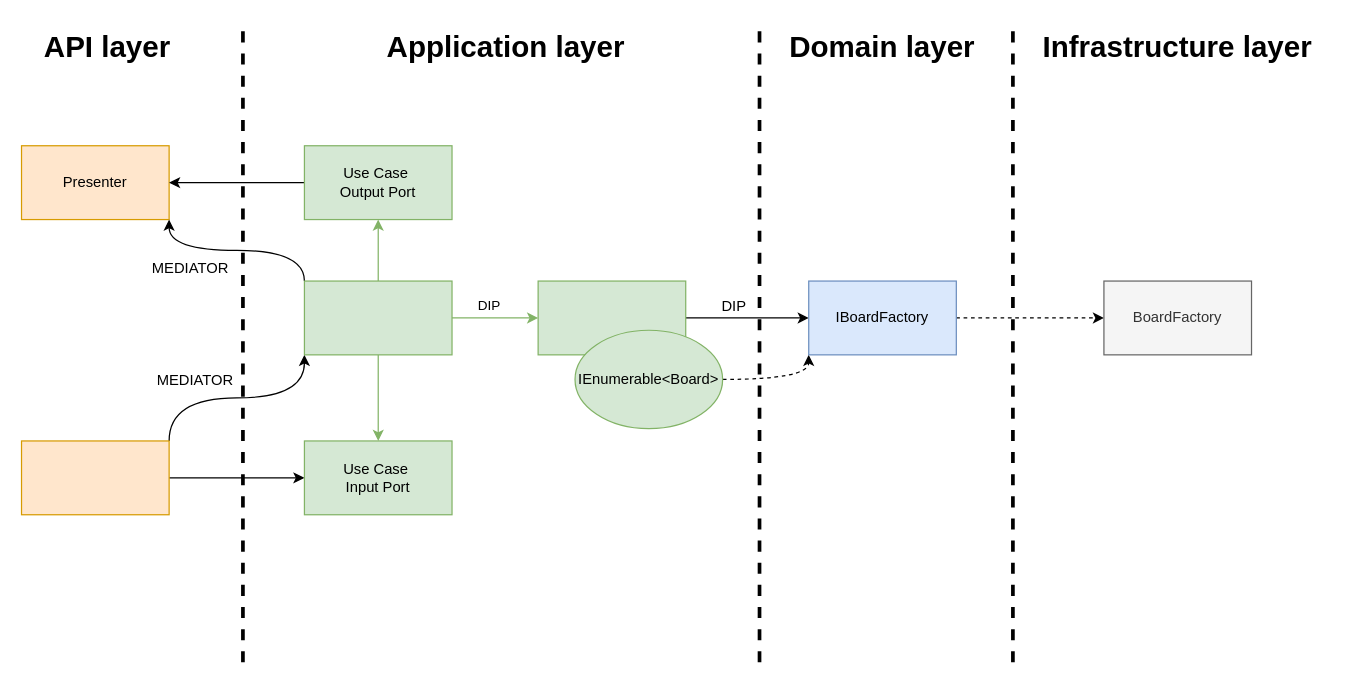
This 1359x686 diagram has some shape labels left out. The box of each missing label's shape, as (x1, y1, x2, y2) in pixels:
Controller: (20, 440, 169, 515)
IBoardService: (537, 280, 686, 355)
Use Case Interactor: (303, 280, 452, 355)
